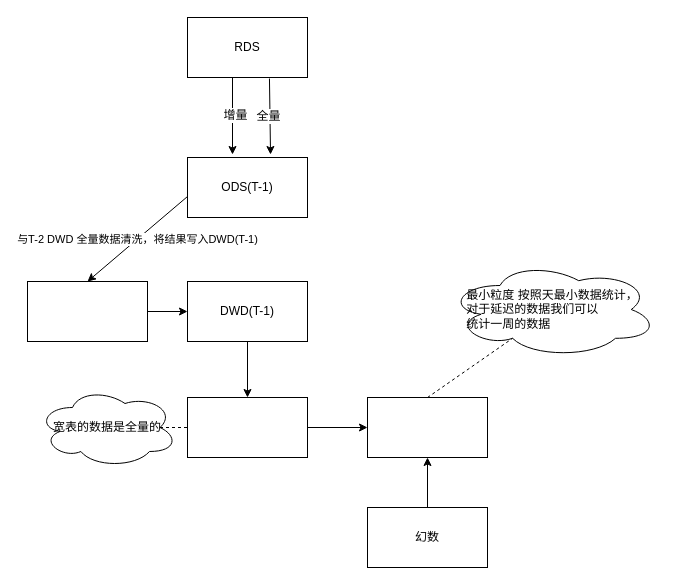
Some shapes in this 676 by 585 pixel diagram are drawn without their labels. Here are the shapes that lost their labels. From the top down, the centre of each, then its label:
At point 87,311: "DWD （T-2）".
At point 247,427: "TDM(T-1)".
At point 427,427: "ADM(T-1)".
